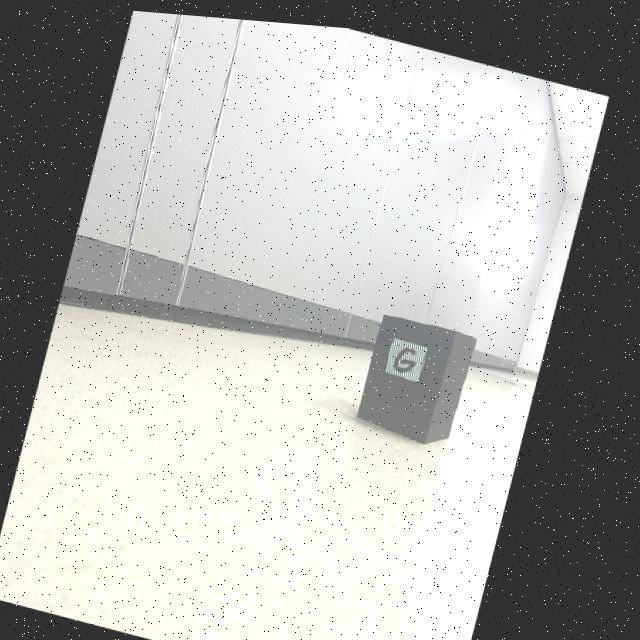G: (398, 340, 421, 365)
